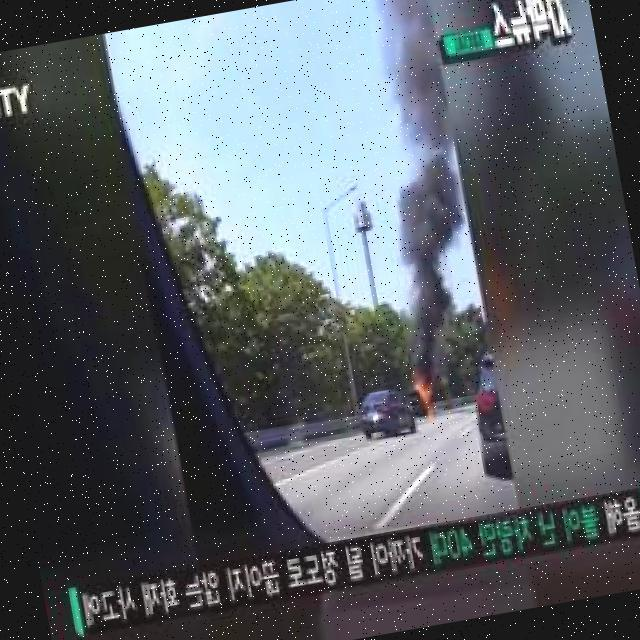Fire: (412, 377, 440, 415)
